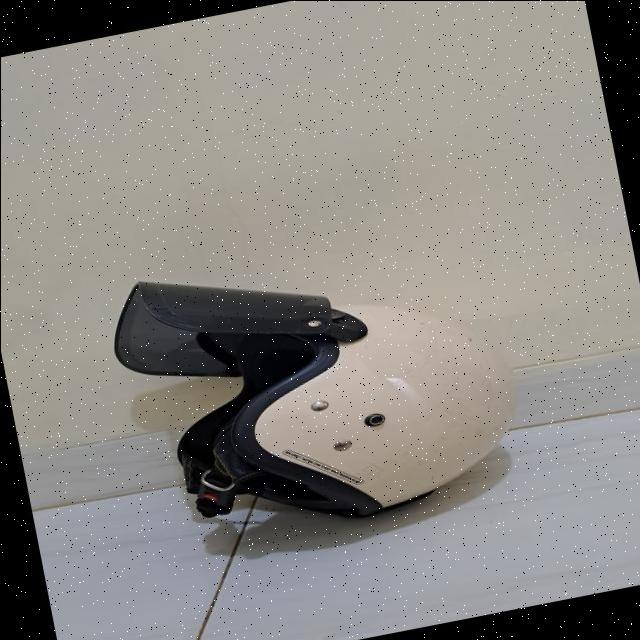Helm: (99, 213, 538, 563)
